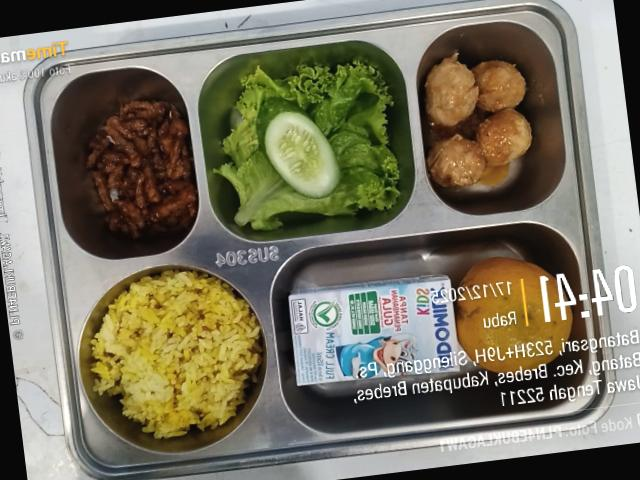bakso: (424, 54, 531, 187)
nasi: (90, 270, 261, 439)
sayur: (213, 60, 398, 230)
susu: (287, 275, 465, 386)
tempe: (85, 101, 197, 238), (454, 257, 572, 373)
